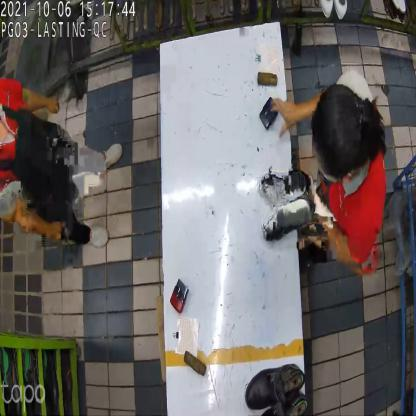shoes: (258, 168, 312, 247), (244, 364, 316, 416)
stamp: (259, 97, 279, 131), (171, 281, 190, 315)
